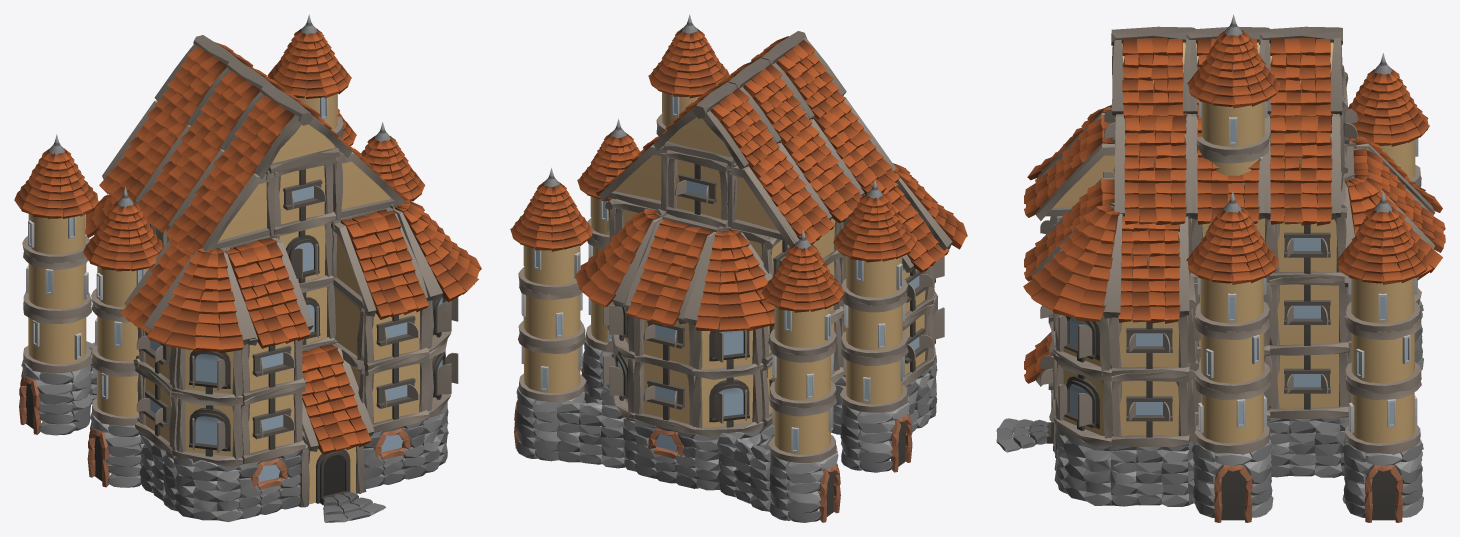
The model's file is big_building.fbx.
The picture shows the model from 3 angles, left to right: view 1: azimuth 30°, elevation 25°; view 2: azimuth 150°, elevation 25°; view 3: azimuth 270°, elevation 25°; orthographic projection. The views are drawn at different scales.
Parts seen in each view (by area): view 1: big_building; view 2: big_building; view 3: big_building.
Part boxes in pixels (x1,y1,x2,y2): big_building: (14,14,481,522); big_building: (510,14,967,522); big_building: (996,14,1445,522).
Size of the model in its own units: 26.76 by 31.69 by 28.42.
